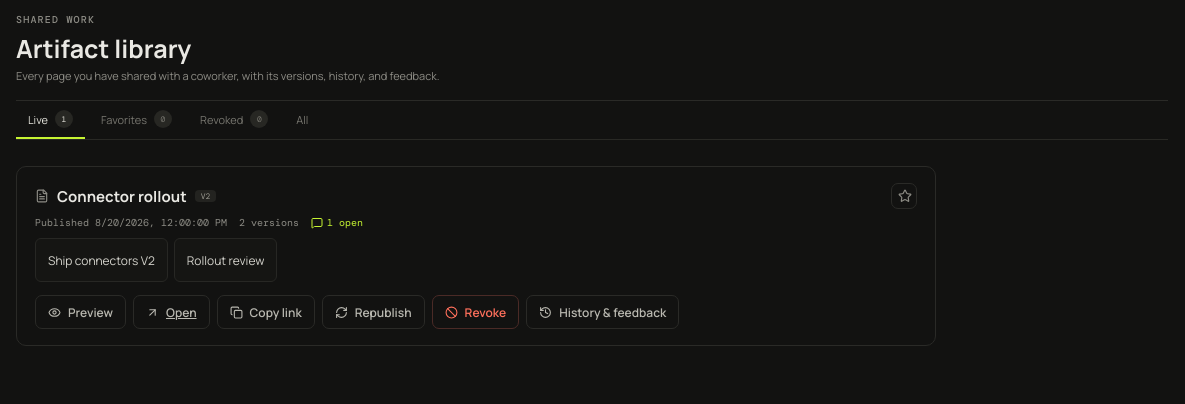
artifact library requests › inline preview › falls back to opening externally for unsupported types
The width and height of the screenshot is (1185, 404).
Click the button "Preview": (80, 312) [35,295,126,329]
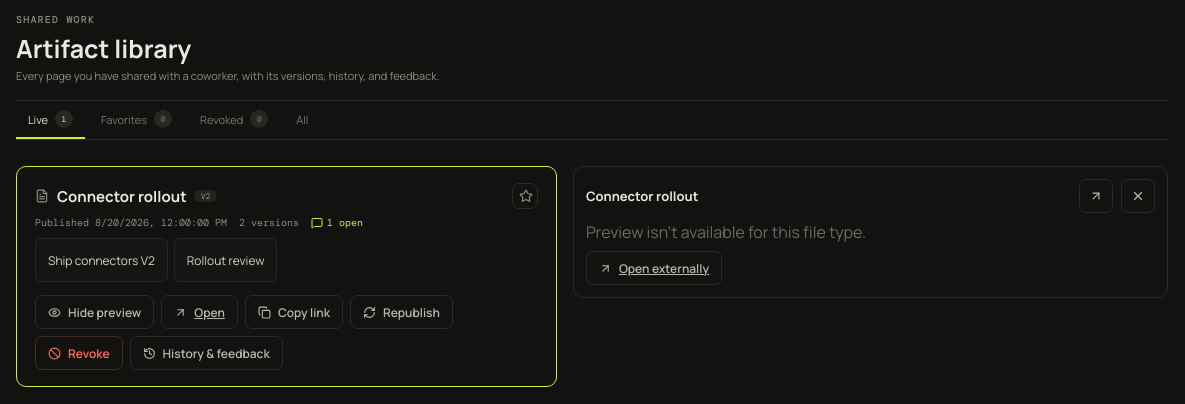
Check: the text "Preview isn't available for this file type." is shown, box [586,221,866,243]
